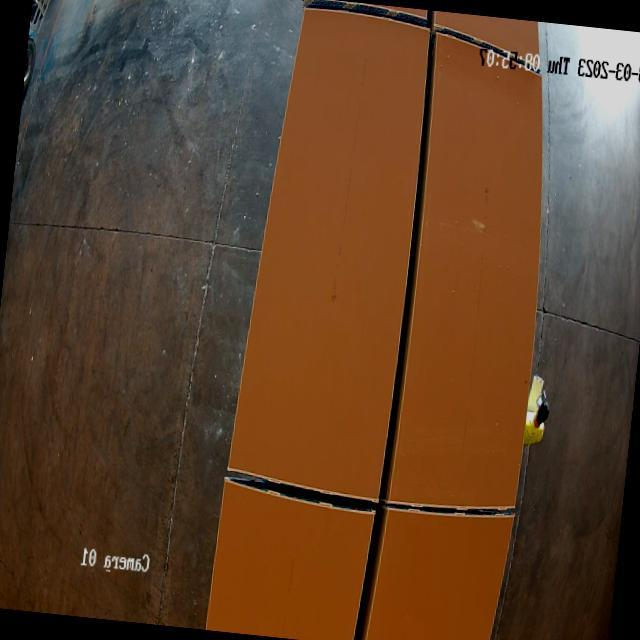person: (522, 375, 555, 450)
